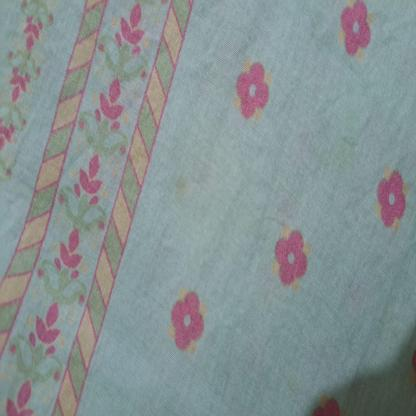spot: (172, 174, 190, 205)
